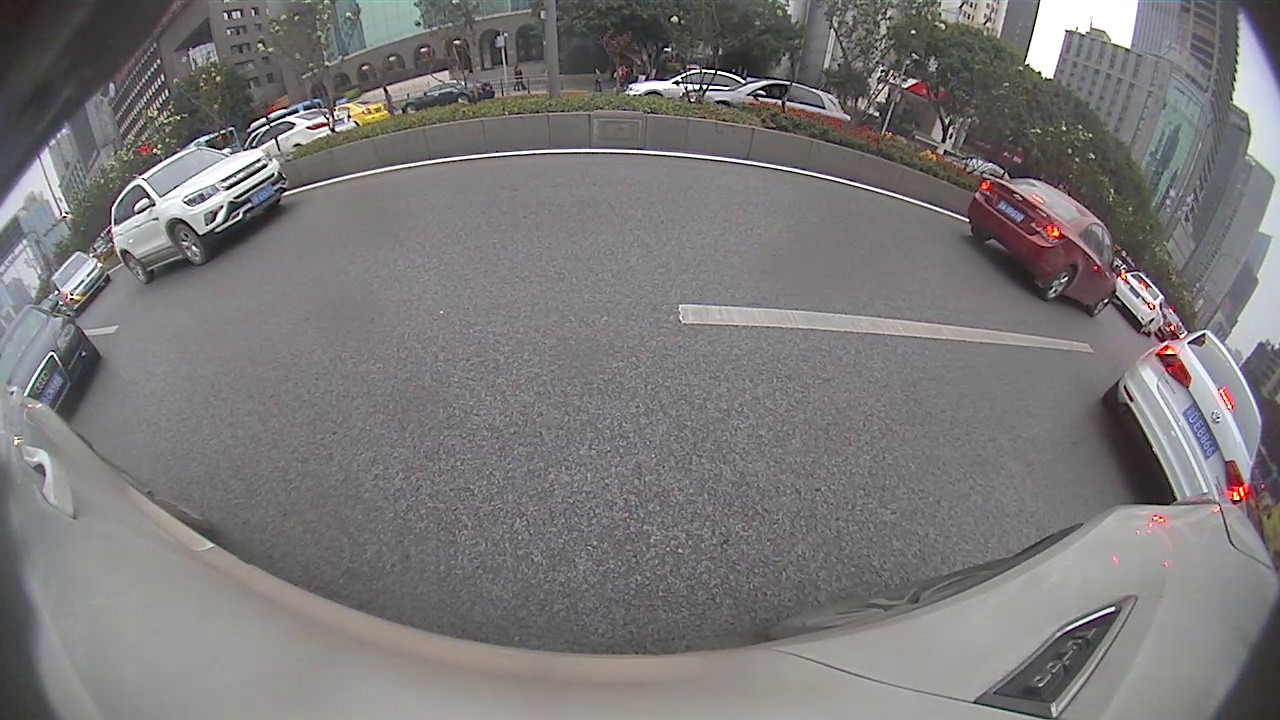car: (1100, 323, 1264, 508), (110, 143, 289, 284), (967, 176, 1126, 319), (0, 295, 102, 413), (681, 77, 850, 123), (46, 250, 112, 313), (1112, 270, 1168, 336)
front: (171, 224, 206, 266), (1090, 296, 1115, 319), (403, 104, 416, 119)
rear: (1043, 265, 1078, 302), (121, 251, 150, 284), (458, 95, 471, 111)
